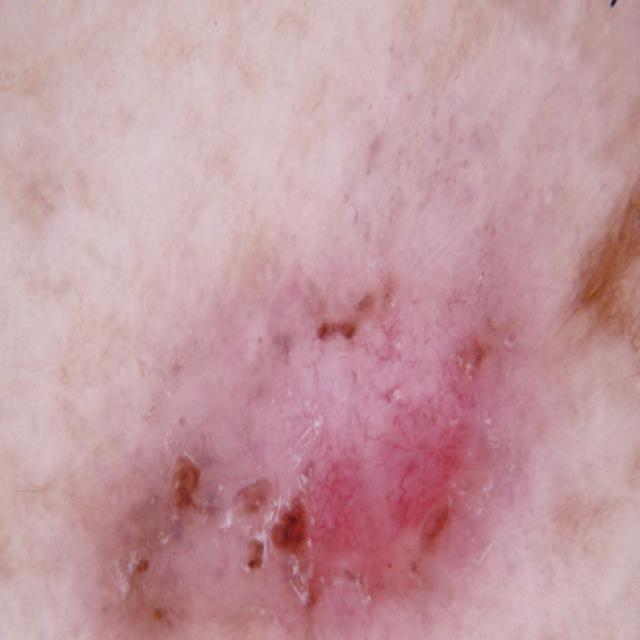Carcinoma: (43, 155, 528, 640), (579, 134, 640, 366)
